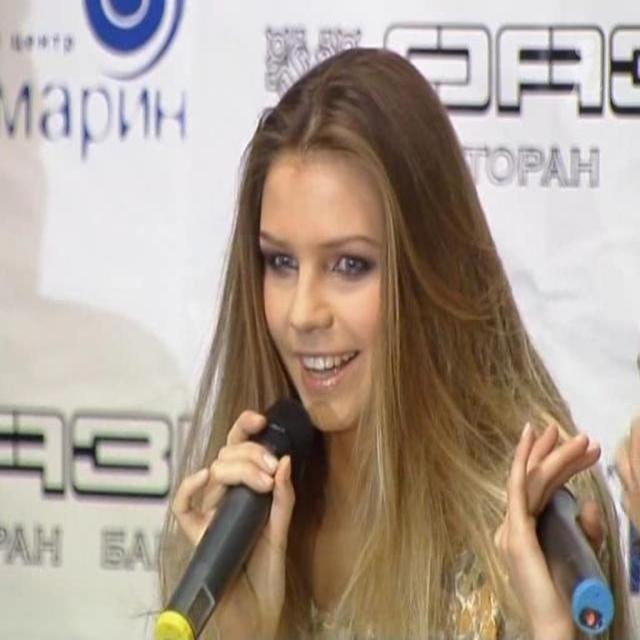Face: (255, 161, 393, 430)
